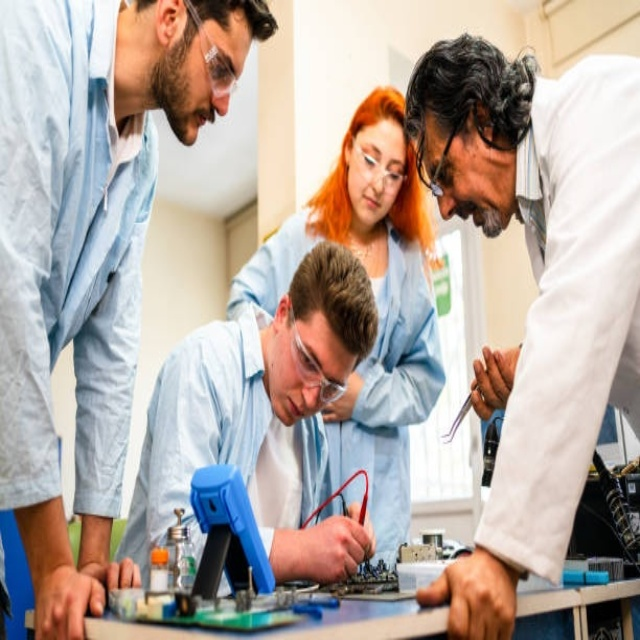Gafas: (180, 3, 238, 97), (351, 135, 407, 191), (422, 130, 455, 202)
Sin_guantes: (417, 543, 516, 635), (298, 497, 379, 580), (27, 565, 109, 637), (467, 334, 524, 419), (83, 541, 143, 598)
Sin_mascara: (180, 100, 224, 147), (453, 202, 499, 242), (275, 387, 315, 430), (353, 190, 382, 223)
